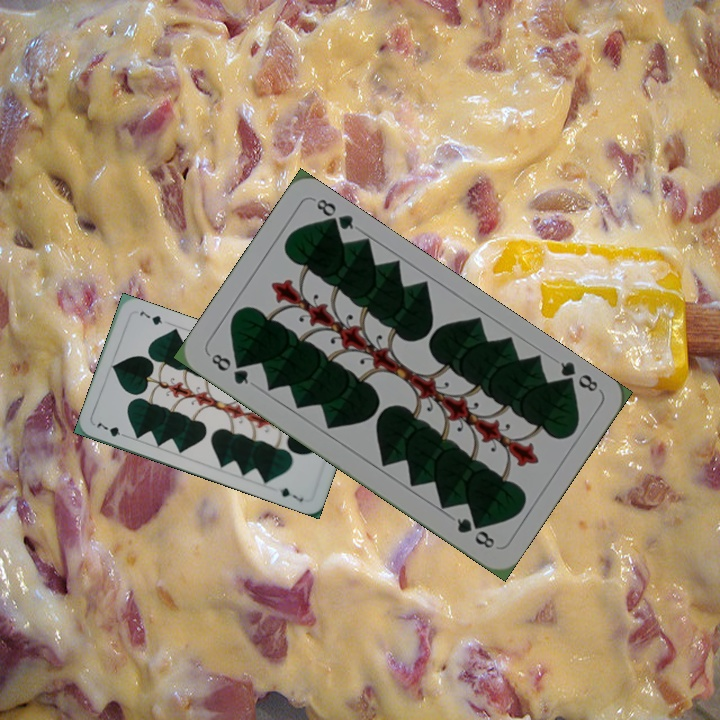G7: (93, 418, 131, 440)
G8: (554, 357, 601, 395), (205, 349, 251, 387)
